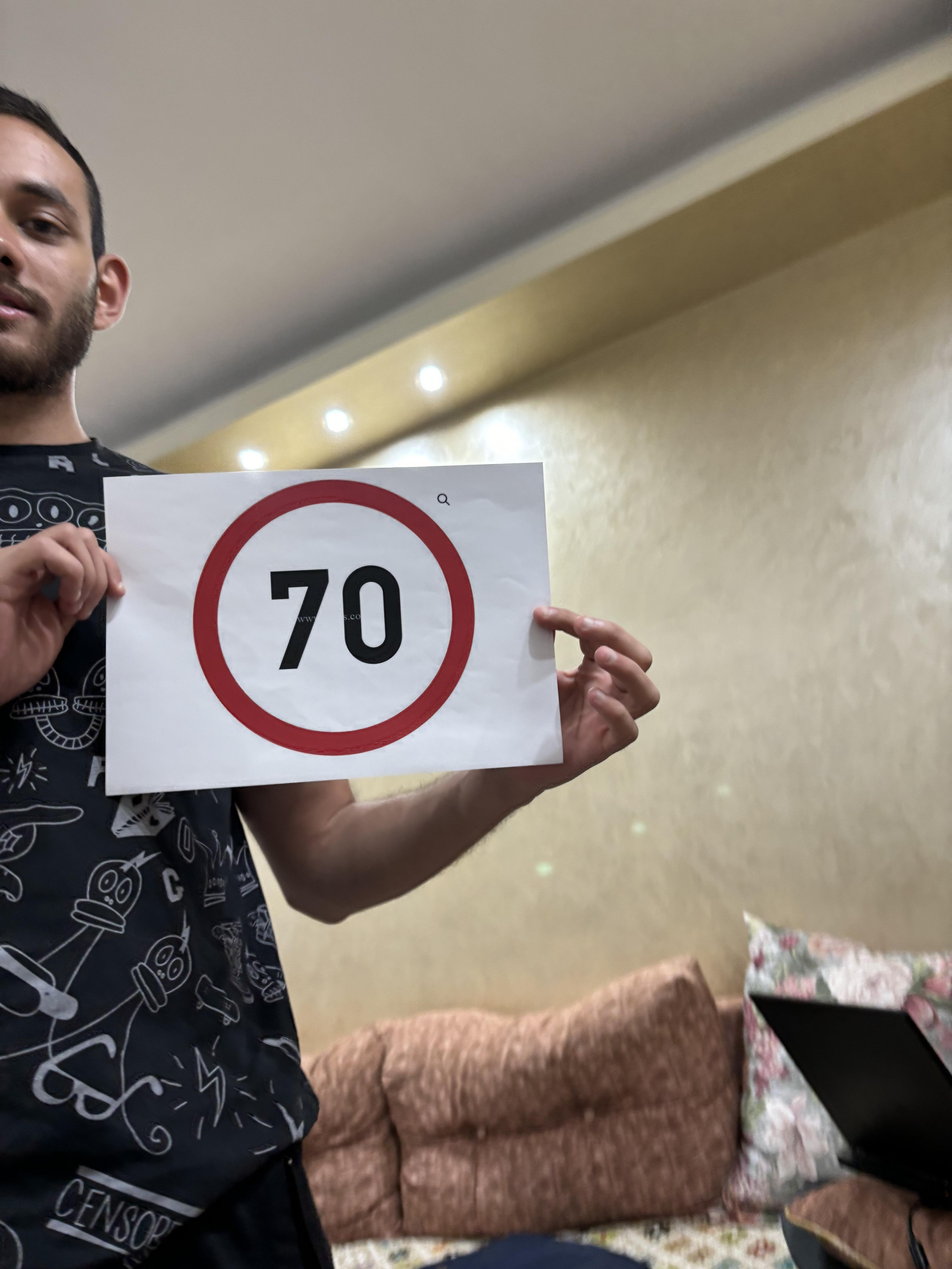70-Speed: (194, 476, 485, 760)
